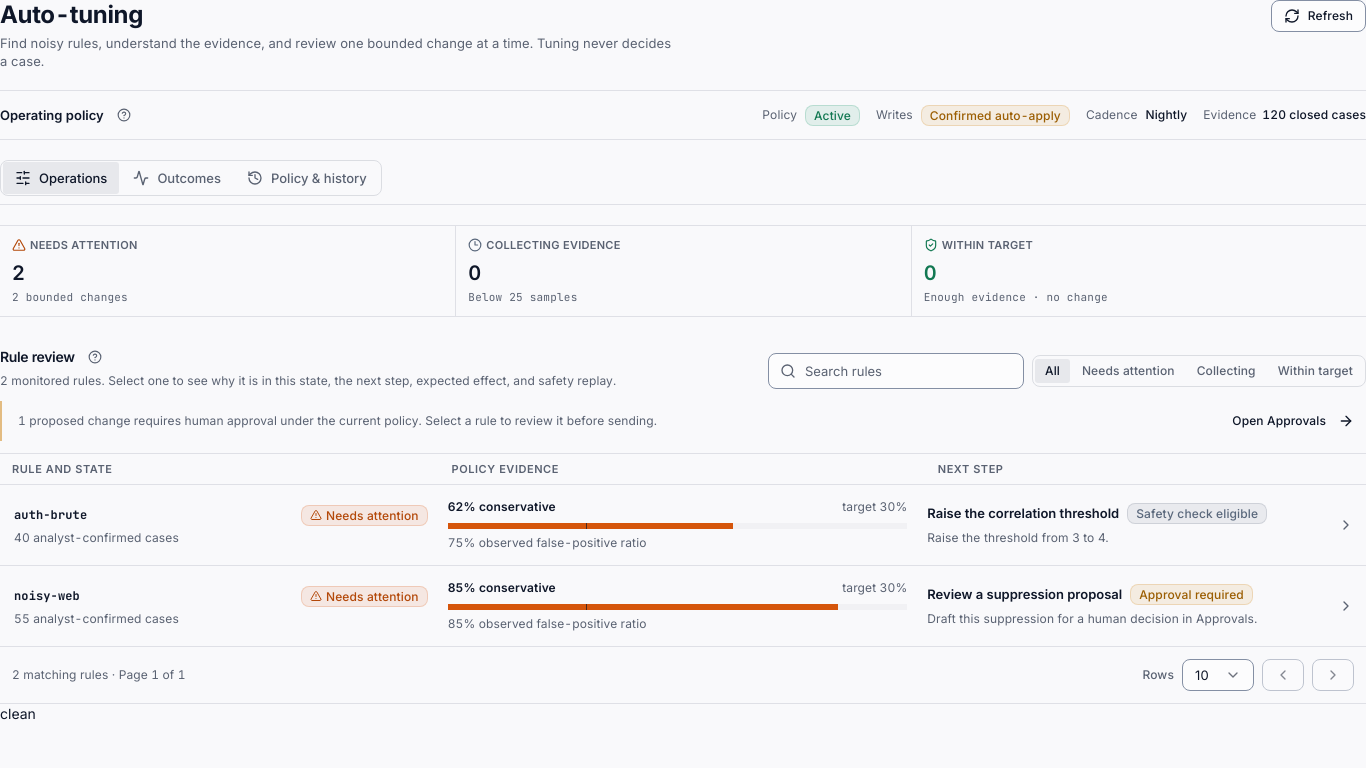
Tuning page › registers an unsaved tuning policy until it is discarded
The width and height of the screenshot is (1366, 768).
Expected: the text with test id "tuning-dirty-probe" reads "clean", [0,705,36,722]
Press Enter in the tab "Policy & history", box [235,162,379,194]
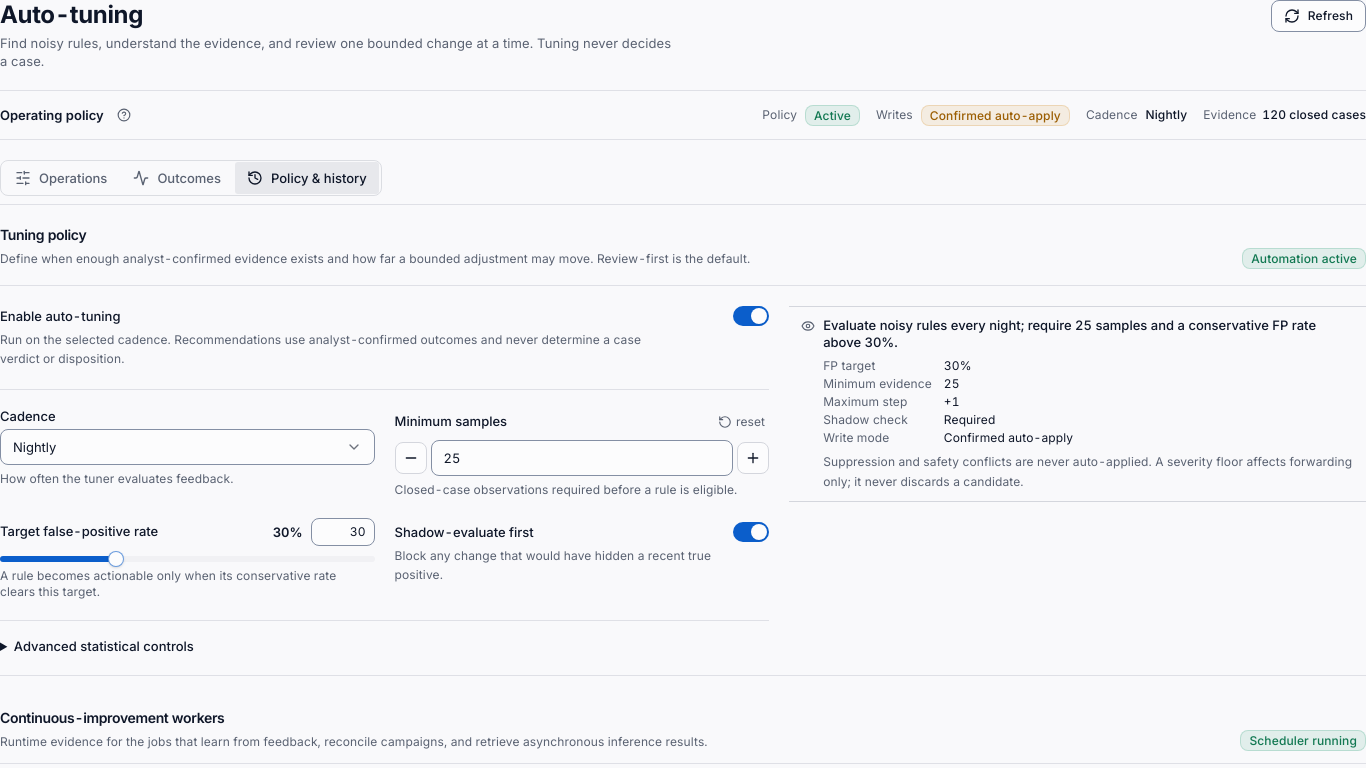
Click the switch named "Enable auto-tuning" in the row of "Enable auto-tuning" at (751, 316), box [733,306,769,326]
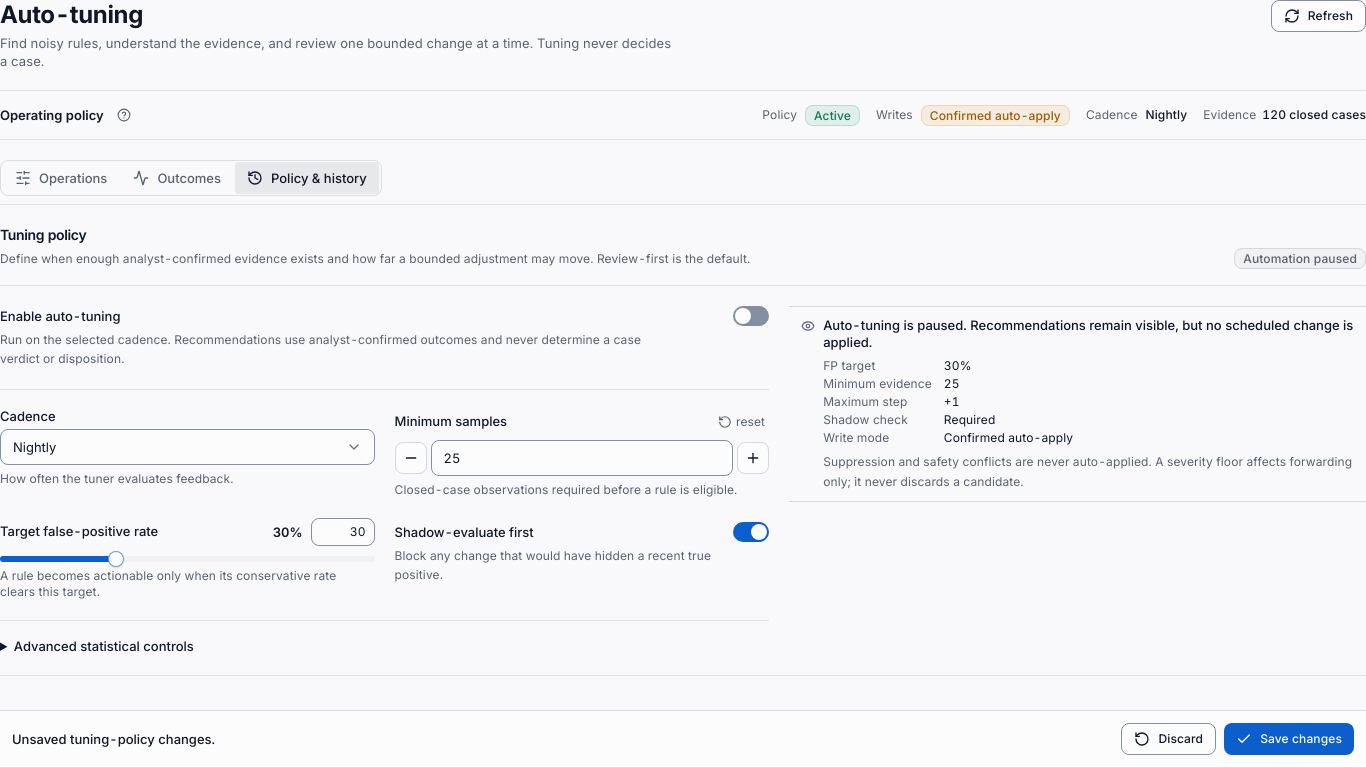
Click the button "Discard" at (1169, 739), box [1122,723,1216,755]
(page scrolled)
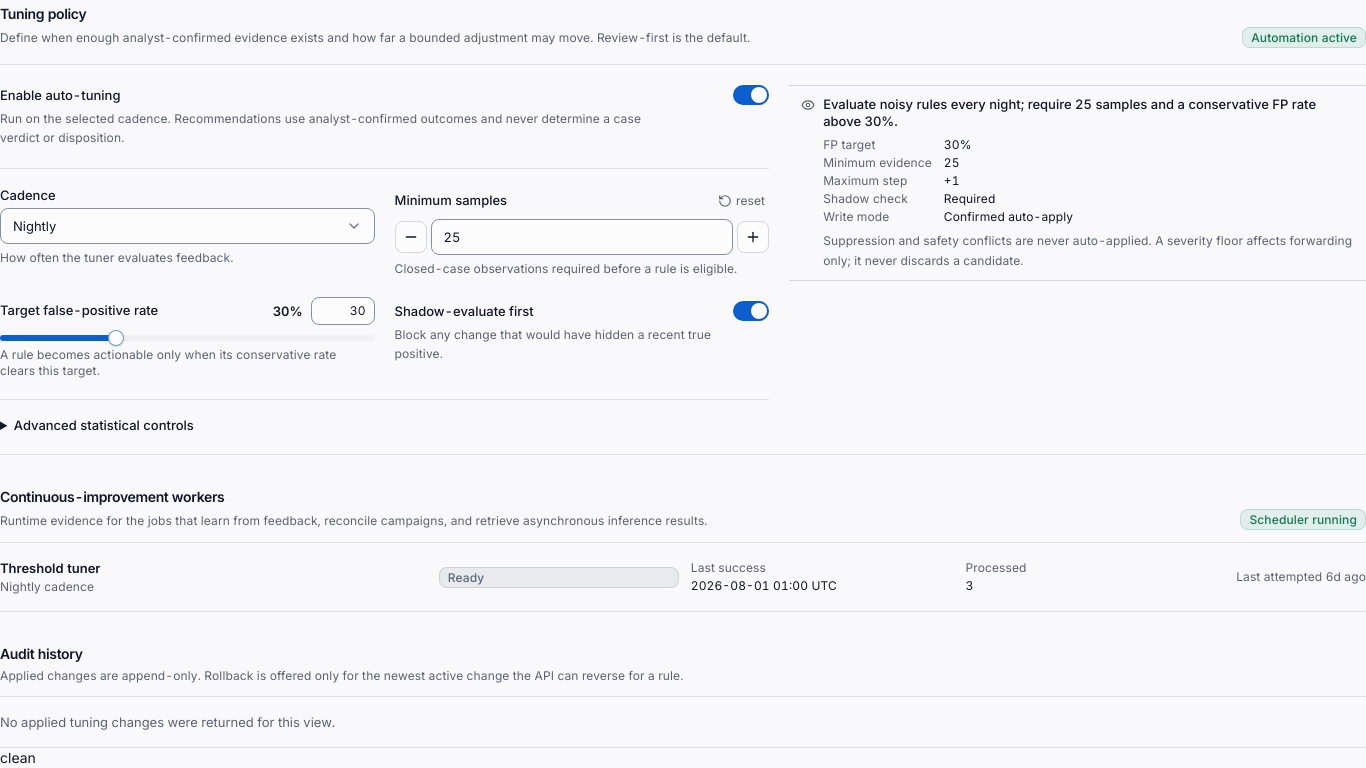
Expected: the text with test id "tuning-dirty-probe" reads "clean", [0,749,36,766]
